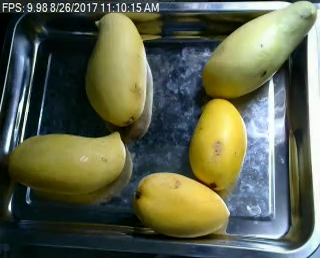Mango: (193, 1, 318, 97), (76, 14, 154, 129), (6, 133, 130, 192), (134, 171, 232, 240), (187, 98, 243, 190)
